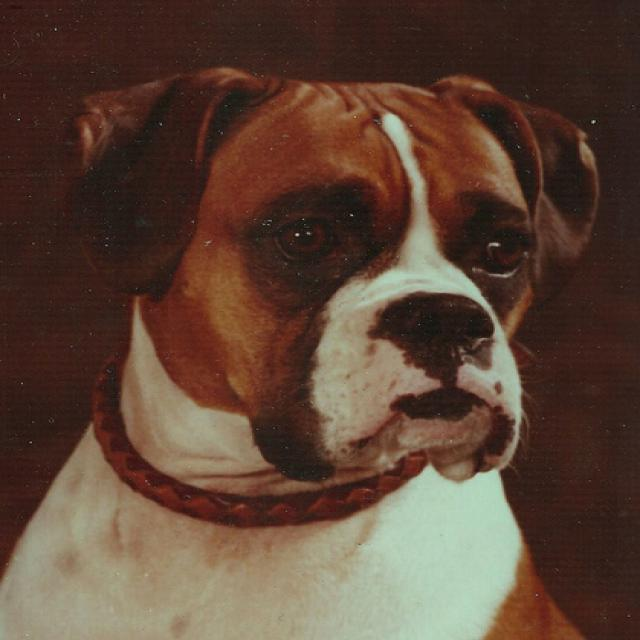dog-boxer: (2, 54, 614, 637)
